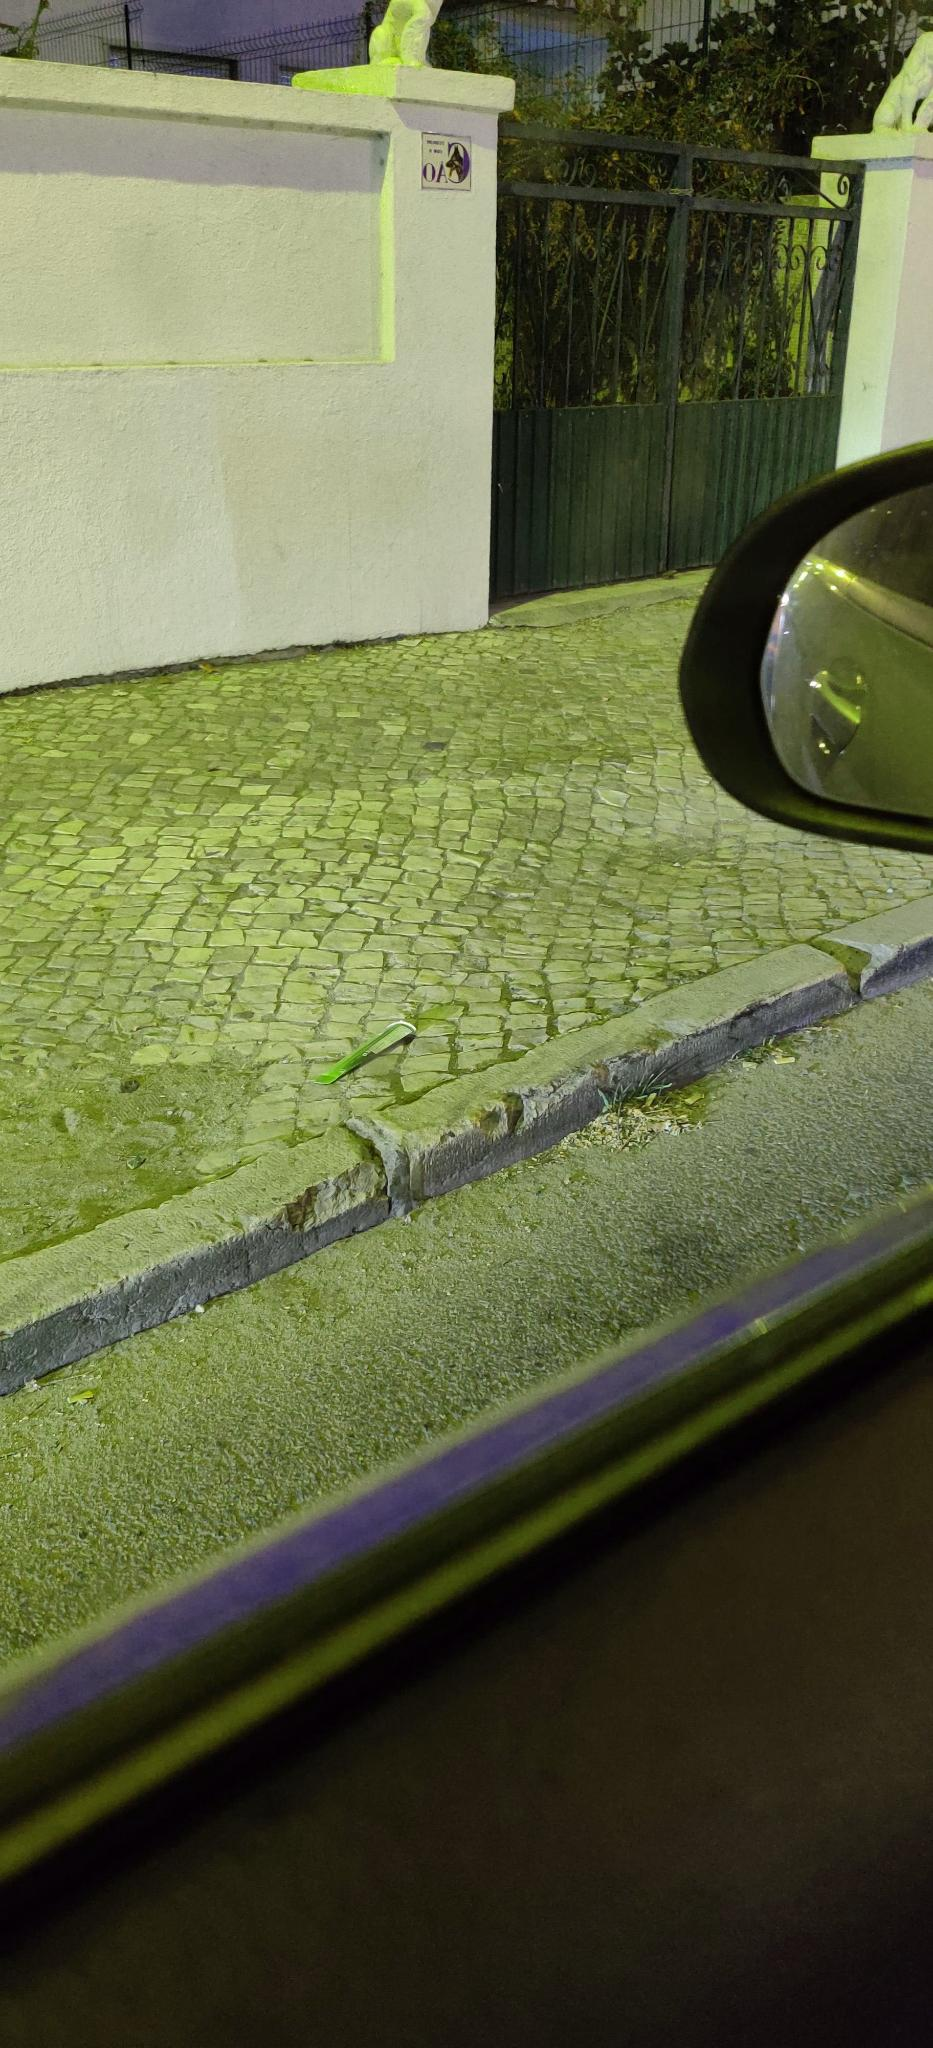Plastic: (299, 1017, 423, 1091)
